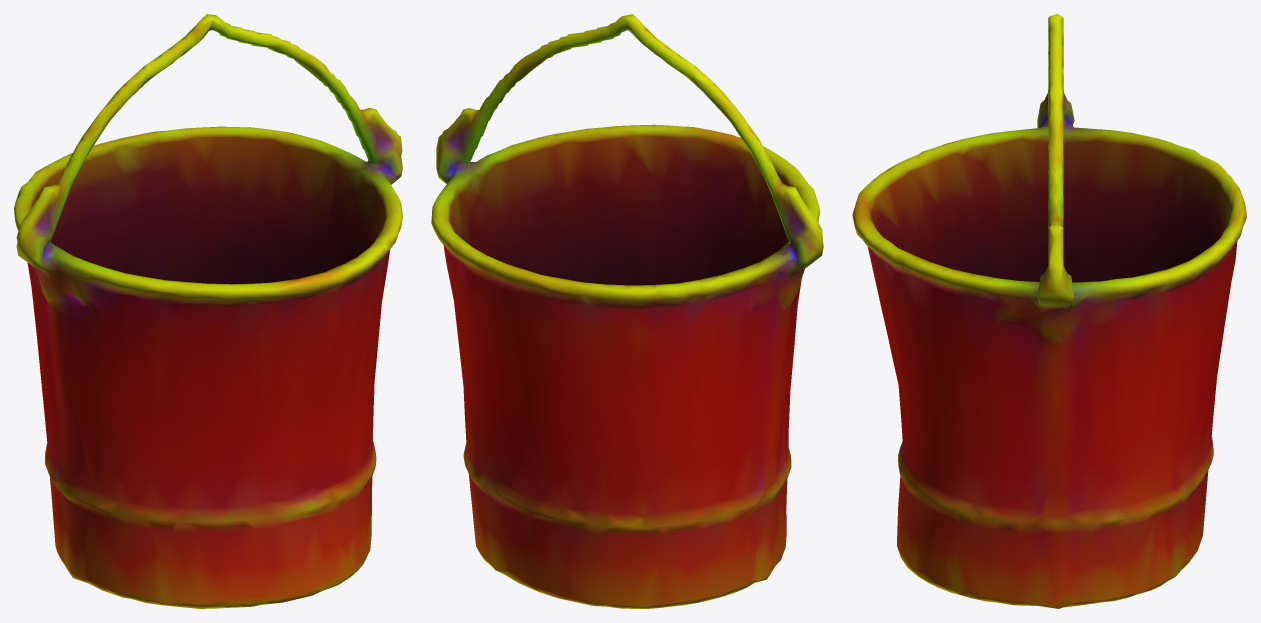
Rendered from SM_Bucket.fbx.
3 views of the same model, side by side, from view 1: azimuth 30°, elevation 25°; view 2: azimuth 150°, elevation 25°; view 3: azimuth 270°, elevation 25° (orthographic).
Visible parts, largest first — view 1: transform1; view 2: transform1; view 3: transform1.
Part boxes in pixels (left/top/right/bottom): transform1: left=14, top=14, right=402, bottom=608; transform1: left=431, top=14, right=823, bottom=608; transform1: left=852, top=14, right=1246, bottom=608.
Bounding box in the file's own units: 60.52 × 54.28 × 80.08.
